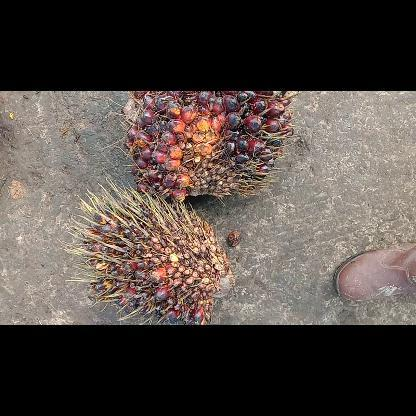Kurang masak: (118, 91, 298, 201)
TBS abnormal: (58, 178, 233, 324)
